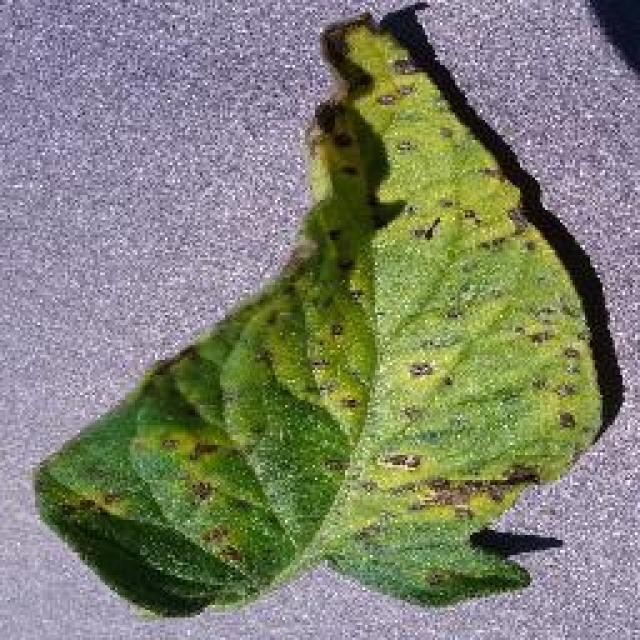Tomato___Septoria_leaf_spot: (32, 12, 600, 615)
